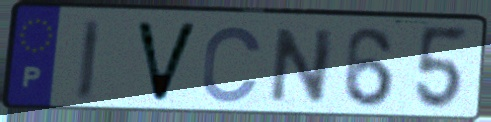5: (410, 23, 473, 116)
6: (341, 25, 399, 112)
C: (199, 23, 266, 107)
I: (74, 17, 105, 105)
N: (265, 25, 339, 107)
V: (131, 18, 203, 107)
